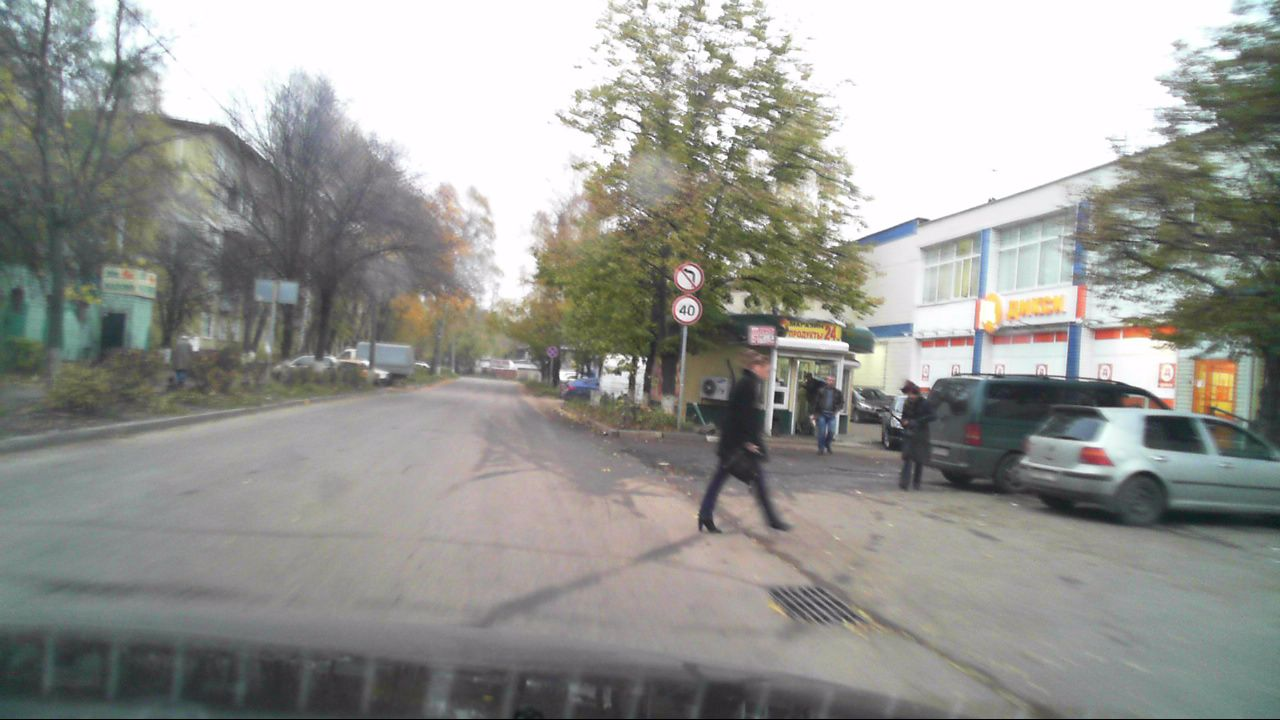speed_warning_40: (671, 294, 702, 325)
